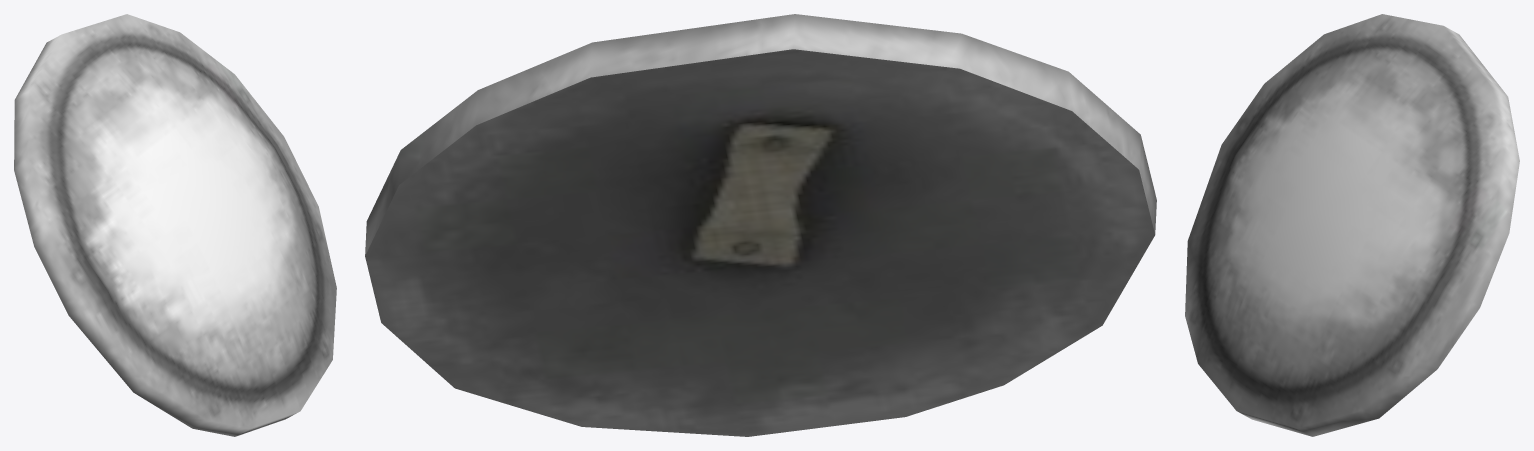
The model's file is shield-heavyarchers.glb.
3 renders of one model, left to right at view 1: azimuth 30°, elevation 25°; view 2: azimuth 150°, elevation 25°; view 3: azimuth 270°, elevation 25°, orthographic. The views are drawn at different scales.
Size of the model in its own units: 0.3382 by 0.3105 by 0.2819.
1 material, 1 textured.
